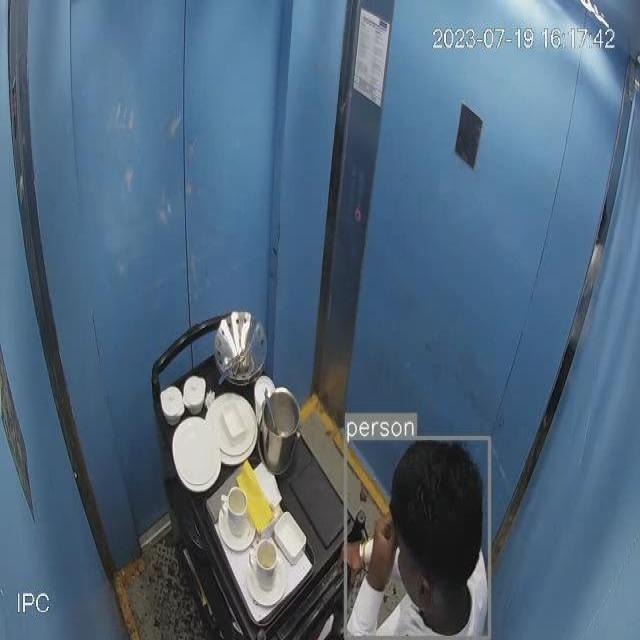person: (349, 438, 489, 638)
